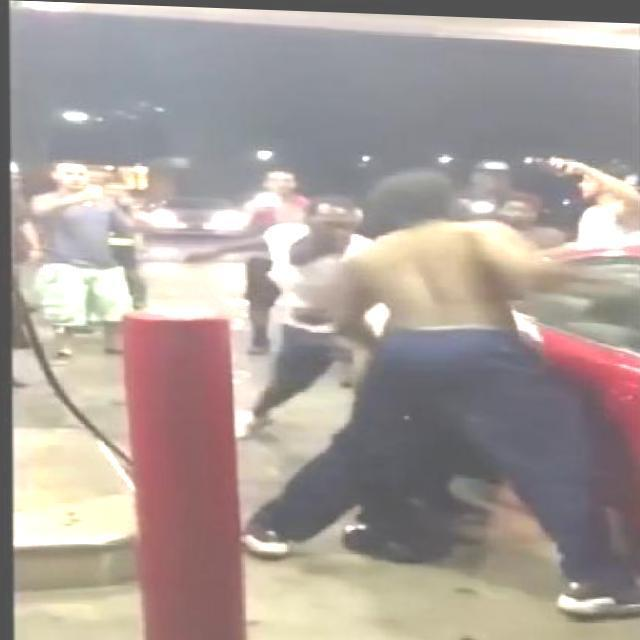fight: (185, 159, 640, 614)
